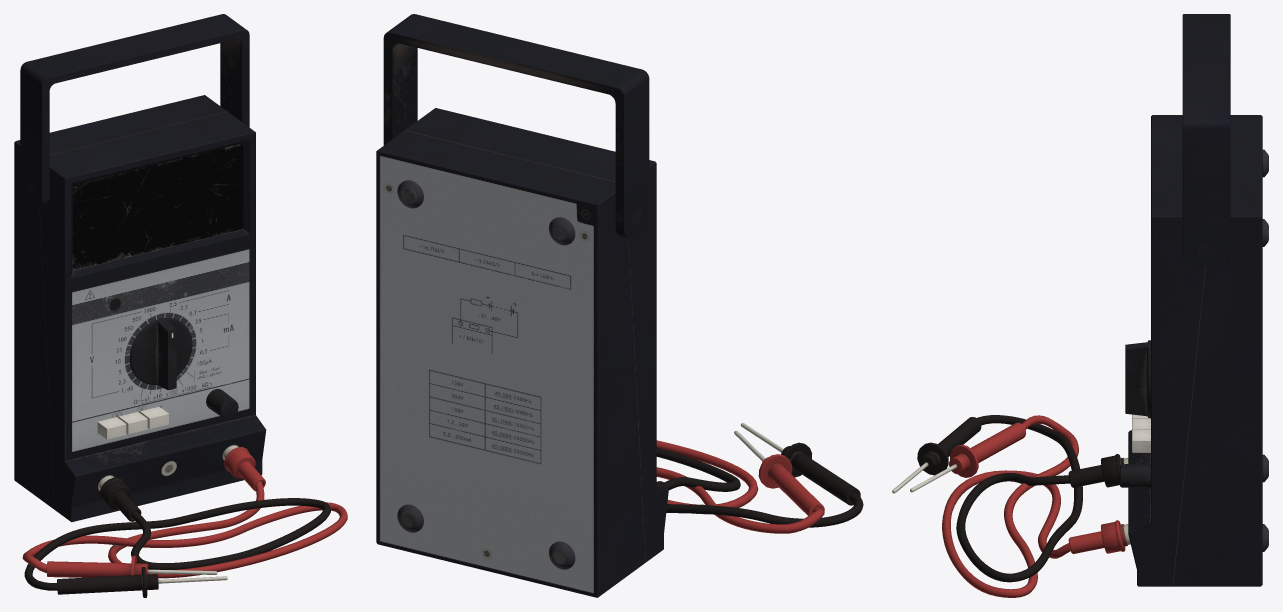
File: multimeter.glb
The picture shows the model from 3 angles, left to right: view 1: azimuth 30°, elevation 25°; view 2: azimuth 150°, elevation 25°; view 3: azimuth 270°, elevation 25°; orthographic projection. The views are drawn at different scales.
Visible parts, largest first — view 1: retro_multimeter_LOD0, retro_multimeter_cables_LOD0, retro_multimeter_handle_LOD0, retro_multimeter_dial_LOD0, retro_multimeter_buttons_LOD0, retro_multimeter_knob_LOD0; view 2: retro_multimeter_LOD0, retro_multimeter_handle_LOD0, retro_multimeter_cables_LOD0; view 3: retro_multimeter_LOD0, retro_multimeter_cables_LOD0, retro_multimeter_handle_LOD0, retro_multimeter_dial_LOD0, retro_multimeter_knob_LOD0, retro_multimeter_buttons_LOD0.
Part boxes in pixels (left/top/right/bottom): retro_multimeter_LOD0: left=14, top=95, right=266, bottom=522; retro_multimeter_cables_LOD0: left=22, top=445, right=347, bottom=597; retro_multimeter_handle_LOD0: left=20, top=14, right=249, bottom=207; retro_multimeter_dial_LOD0: left=129, top=318, right=192, bottom=390; retro_multimeter_buttons_LOD0: left=97, top=406, right=168, bottom=439; retro_multimeter_knob_LOD0: left=206, top=389, right=238, bottom=418; retro_multimeter_LOD0: left=376, top=108, right=668, bottom=597; retro_multimeter_handle_LOD0: left=383, top=14, right=649, bottom=238; retro_multimeter_cables_LOD0: left=656, top=423, right=863, bottom=533; retro_multimeter_LOD0: left=1128, top=115, right=1268, bottom=586; retro_multimeter_cables_LOD0: left=892, top=415, right=1130, bottom=597; retro_multimeter_handle_LOD0: left=1182, top=14, right=1230, bottom=266; retro_multimeter_dial_LOD0: left=1125, top=340, right=1150, bottom=418; retro_multimeter_knob_LOD0: left=1120, top=463, right=1150, bottom=487; retro_multimeter_buttons_LOD0: left=1132, top=414, right=1150, bottom=452.
Bounding box in the file's own units: 0.216 × 0.2786 × 0.2026.
2 materials, 2 textured.
